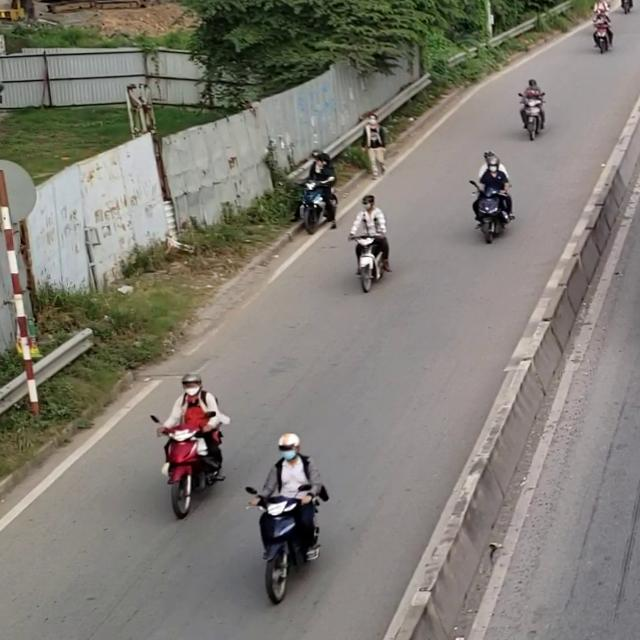Motorcycle: (244, 483, 327, 604), (149, 413, 227, 519), (468, 179, 515, 244), (293, 178, 337, 234), (348, 232, 386, 292), (517, 91, 545, 141)
